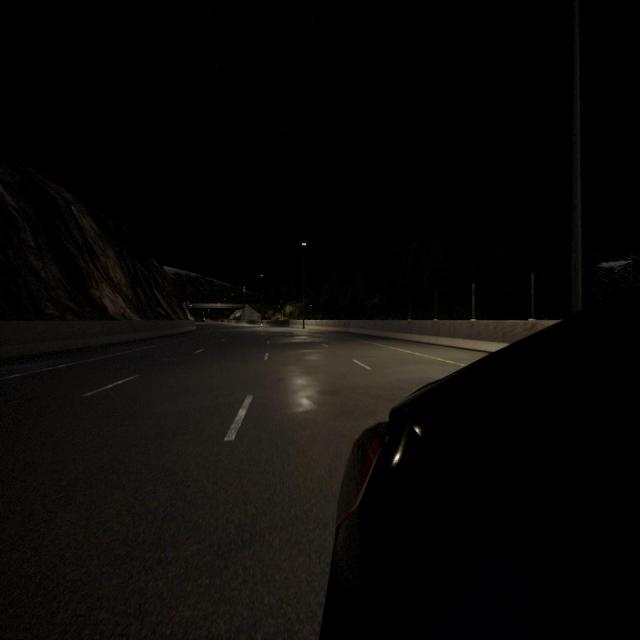Vehicle: (317, 280, 640, 640)
